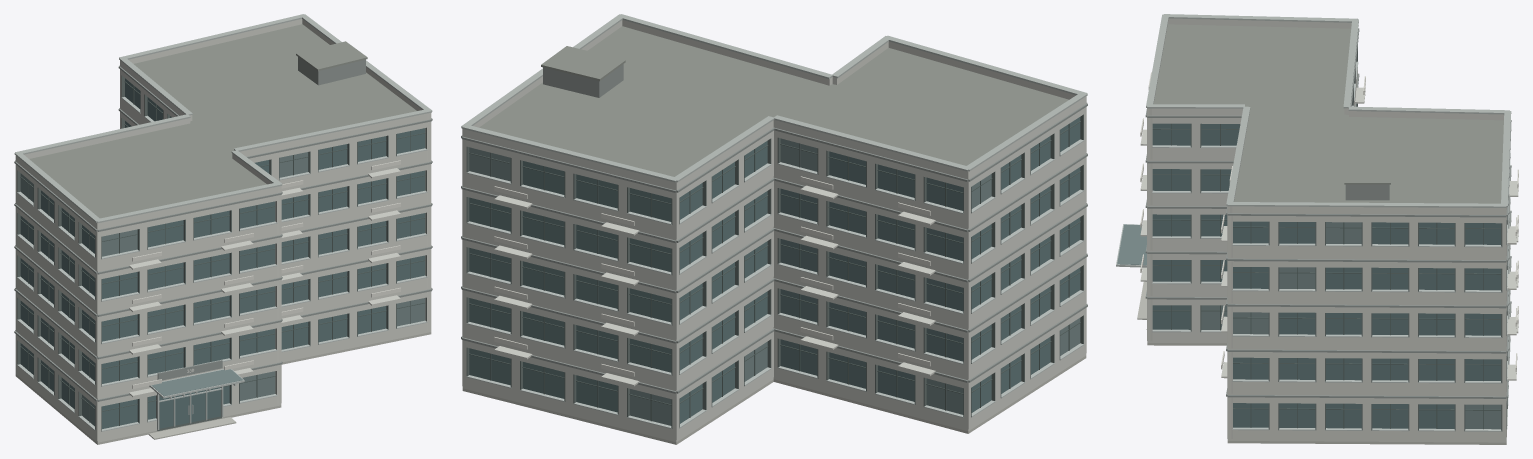
Rendered from mapped_1135360060.glb.
3 renders of one model, left to right at view 1: azimuth 30°, elevation 25°; view 2: azimuth 150°, elevation 25°; view 3: azimuth 270°, elevation 25°, orthographic. The views are drawn at different scales.
Parts seen in each view (by area): view 1: mapped_1135360060_HousingIvory, mapped_1135360060_FacultyRoof, mapped_1135360060_WindowGlass, mapped_1135360060_FacultyDarkPanel, mapped_1135360060_WindowAluminium, mapped_1135360060_Teaching5TileJoint, mapped_1135360060_WindowReveal, mapped_1135360060_WindowGlassLight, mapped_1135360060_WindowRubber, mapped_1135360060_WhiteTrim, mapped_1135360060_EntryStone; view 2: mapped_1135360060_HousingIvory, mapped_1135360060_WindowGlass, mapped_1135360060_FacultyRoof, mapped_1135360060_WindowReveal, mapped_1135360060_FacultyDarkPanel, mapped_1135360060_WindowAluminium, mapped_1135360060_Teaching5TileJoint, mapped_1135360060_WindowRubber, mapped_1135360060_WindowGlassLight, mapped_1135360060_WhiteTrim, mapped_1135360060_EntryStone; view 3: mapped_1135360060_HousingIvory, mapped_1135360060_FacultyRoof, mapped_1135360060_WindowGlass, mapped_1135360060_FacultyDarkPanel, mapped_1135360060_Teaching5TileJoint, mapped_1135360060_WindowAluminium, mapped_1135360060_WindowGlassLight, mapped_1135360060_WindowRubber, mapped_1135360060_WindowReveal, mapped_1135360060_EntryStone, mapped_1135360060_WhiteTrim.
Part boxes in pixels (<box>): mapped_1135360060_HousingIvory: <box>15,19,431,442</box>; mapped_1135360060_FacultyRoof: <box>29,24,416,218</box>; mapped_1135360060_WindowGlass: <box>20,78,425,428</box>; mapped_1135360060_FacultyDarkPanel: <box>14,57,432,401</box>; mapped_1135360060_WindowAluminium: <box>17,97,427,431</box>; mapped_1135360060_Teaching5TileJoint: <box>14,14,432,223</box>; mapped_1135360060_WindowReveal: <box>17,75,426,431</box>; mapped_1135360060_WindowGlassLight: <box>20,152,425,426</box>; mapped_1135360060_WindowRubber: <box>20,81,425,425</box>; mapped_1135360060_WhiteTrim: <box>132,160,400,388</box>; mapped_1135360060_EntryStone: <box>15,332,431,444</box>; mapped_1135360060_HousingIvory: <box>462,20,1086,442</box>; mapped_1135360060_WindowGlass: <box>469,117,1080,423</box>; mapped_1135360060_FacultyRoof: <box>479,26,1068,176</box>; mapped_1135360060_WindowReveal: <box>466,114,1083,428</box>; mapped_1135360060_FacultyDarkPanel: <box>461,64,1087,393</box>; mapped_1135360060_WindowAluminium: <box>466,139,1084,428</box>; mapped_1135360060_Teaching5TileJoint: <box>461,14,1087,182</box>; mapped_1135360060_WindowRubber: <box>469,121,1080,421</box>; mapped_1135360060_WindowGlassLight: <box>469,138,1080,425</box>; mapped_1135360060_WhiteTrim: <box>494,176,930,376</box>; mapped_1135360060_EntryStone: <box>462,356,1086,444</box>; mapped_1135360060_HousingIvory: <box>1140,18,1518,442</box>; mapped_1135360060_FacultyRoof: <box>1154,24,1503,203</box>; mapped_1135360060_WindowGlass: <box>1152,123,1500,428</box>; mapped_1135360060_FacultyDarkPanel: <box>1145,28,1511,398</box>; mapped_1135360060_Teaching5TileJoint: <box>1146,14,1511,207</box>; mapped_1135360060_WindowAluminium: <box>1116,61,1510,431</box>; mapped_1135360060_WindowGlassLight: <box>1117,222,1500,429</box>; mapped_1135360060_WindowRubber: <box>1152,123,1500,429</box>; mapped_1135360060_WindowReveal: <box>1190,46,1507,431</box>; mapped_1135360060_EntryStone: <box>1137,281,1506,444</box>; mapped_1135360060_WhiteTrim: <box>1140,72,1518,371</box>.
Bounding box in the file's own units: 31.16 × 19.28 × 27.52.
